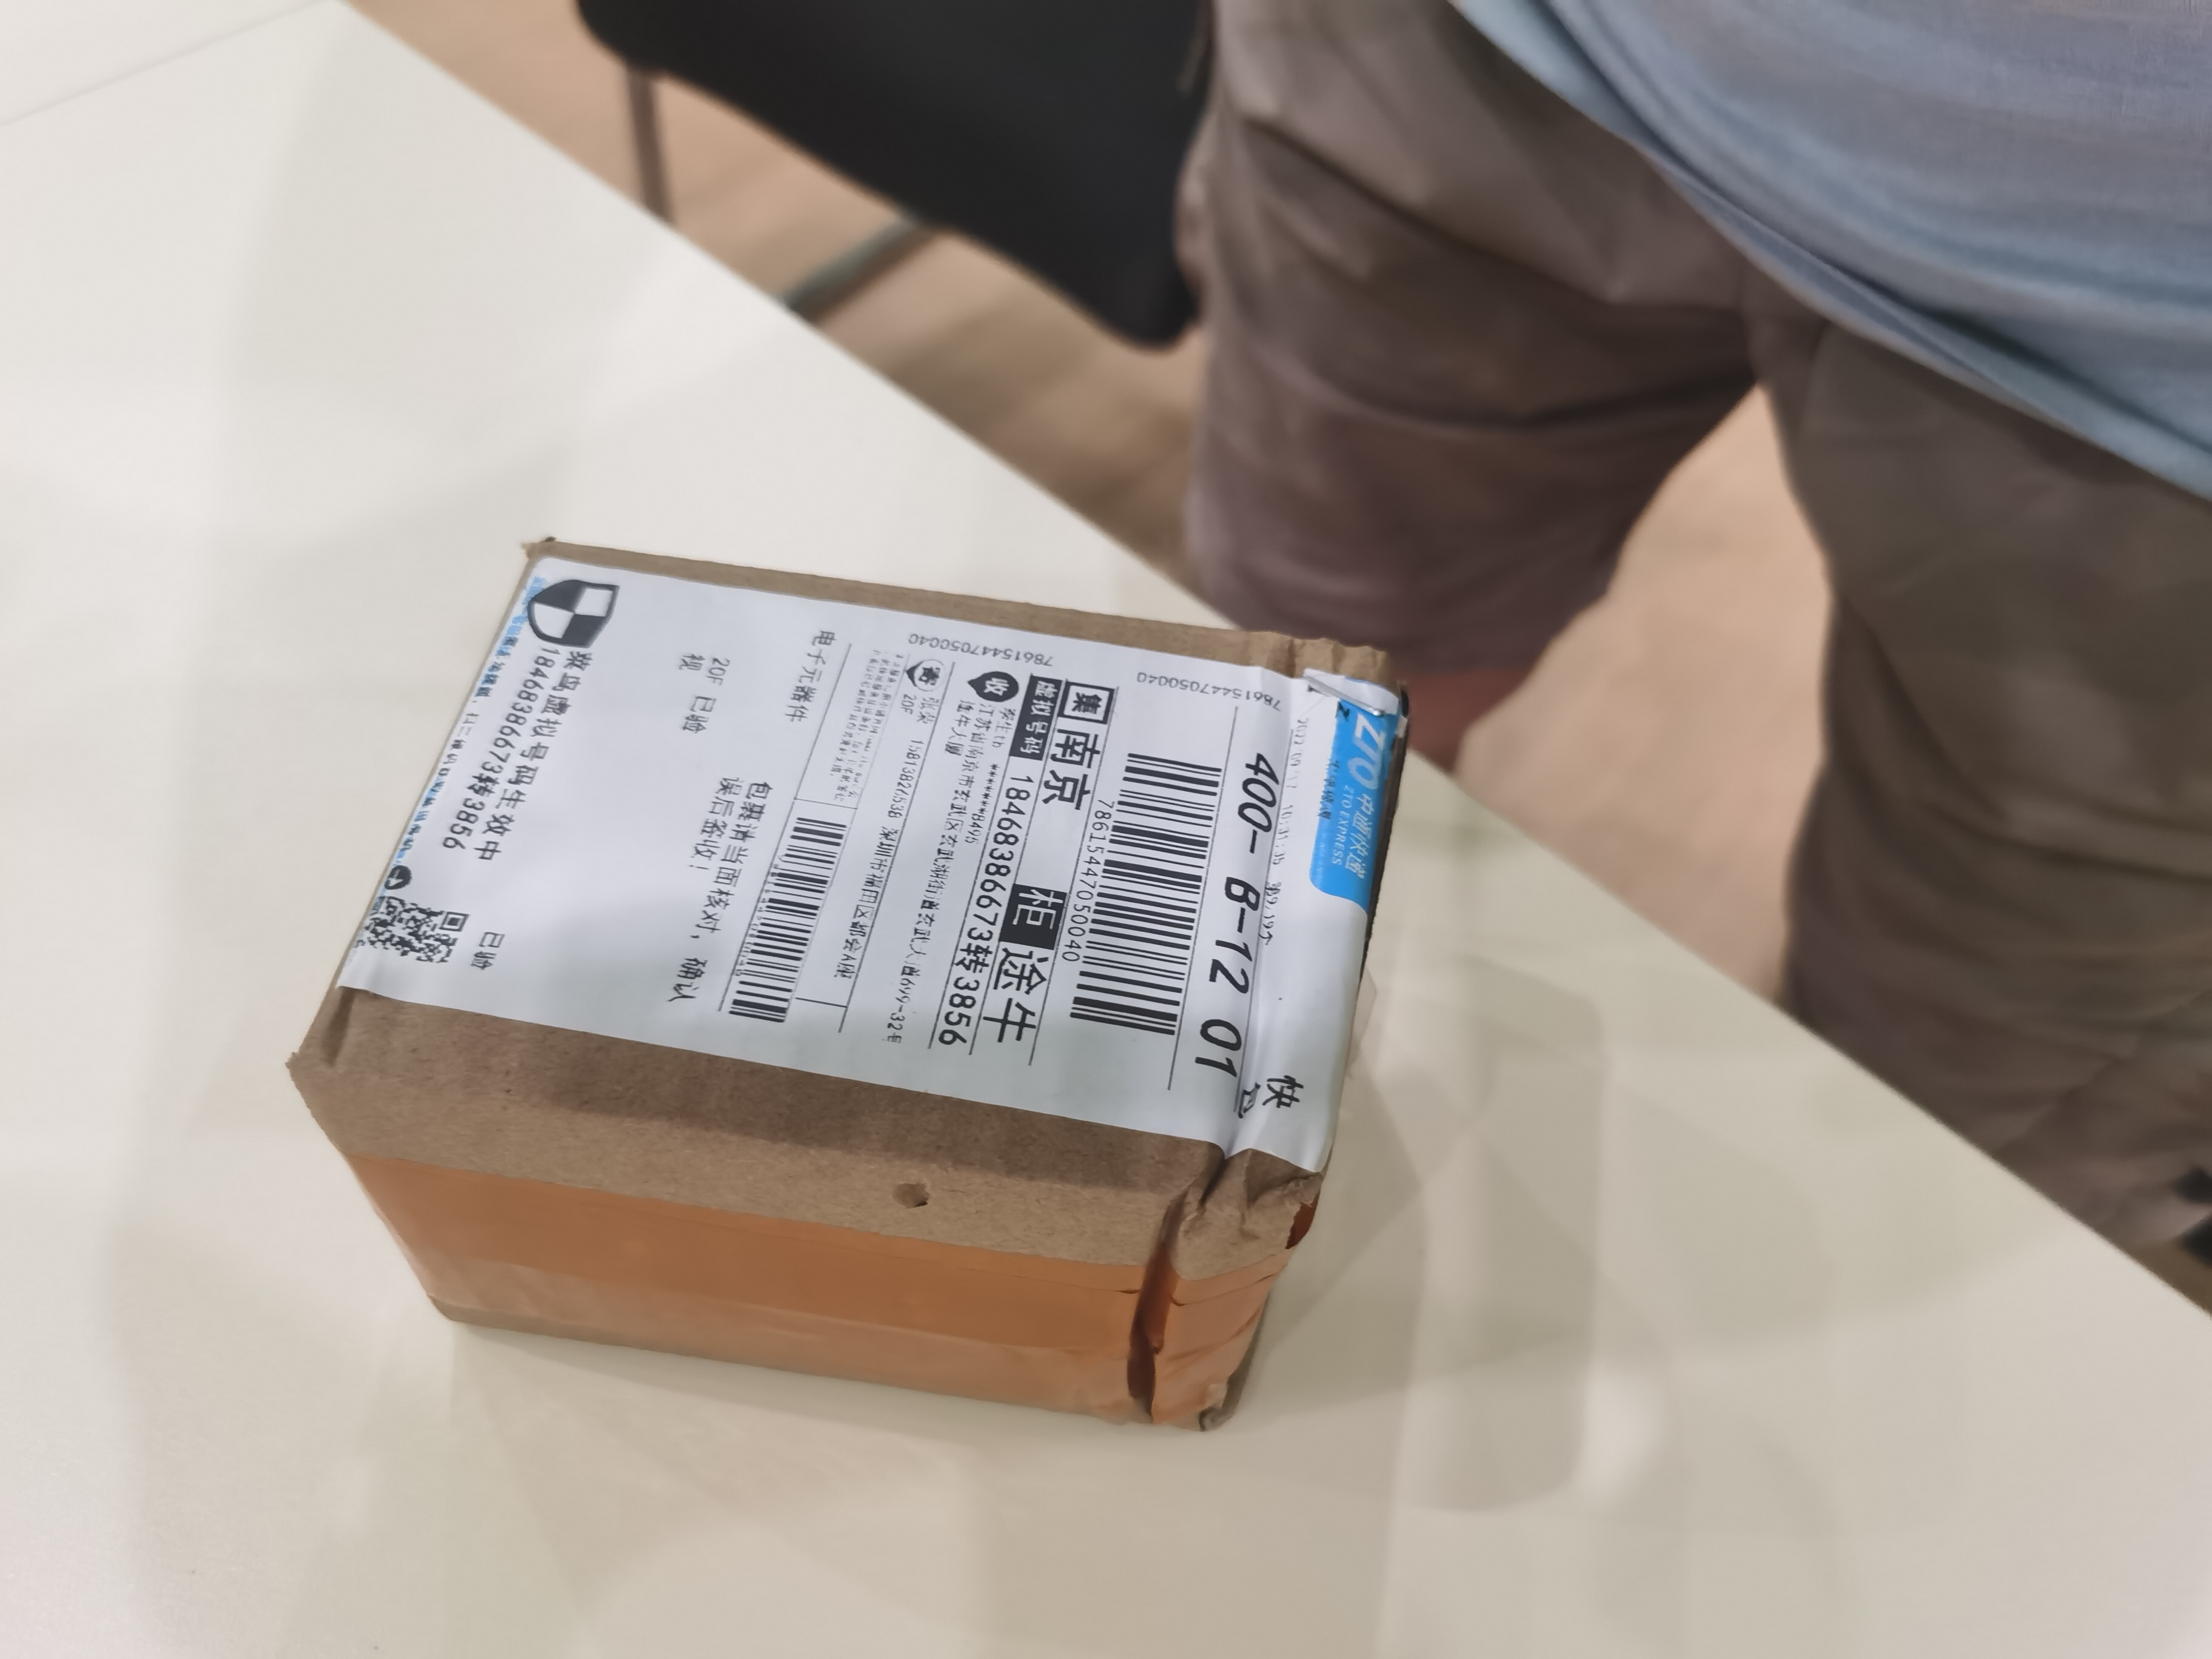box: (270, 532, 1418, 1499)
